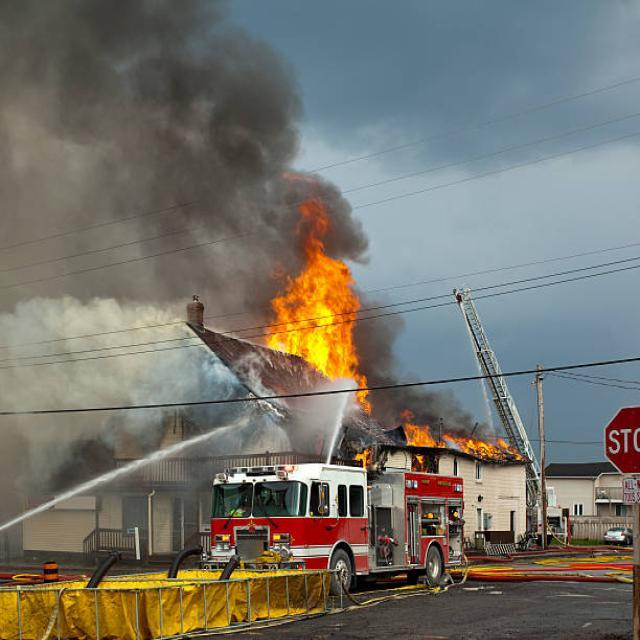Fire: (270, 216, 372, 360), (406, 412, 518, 459), (314, 338, 362, 376)
Smoke: (5, 0, 379, 293), (3, 292, 239, 451)
